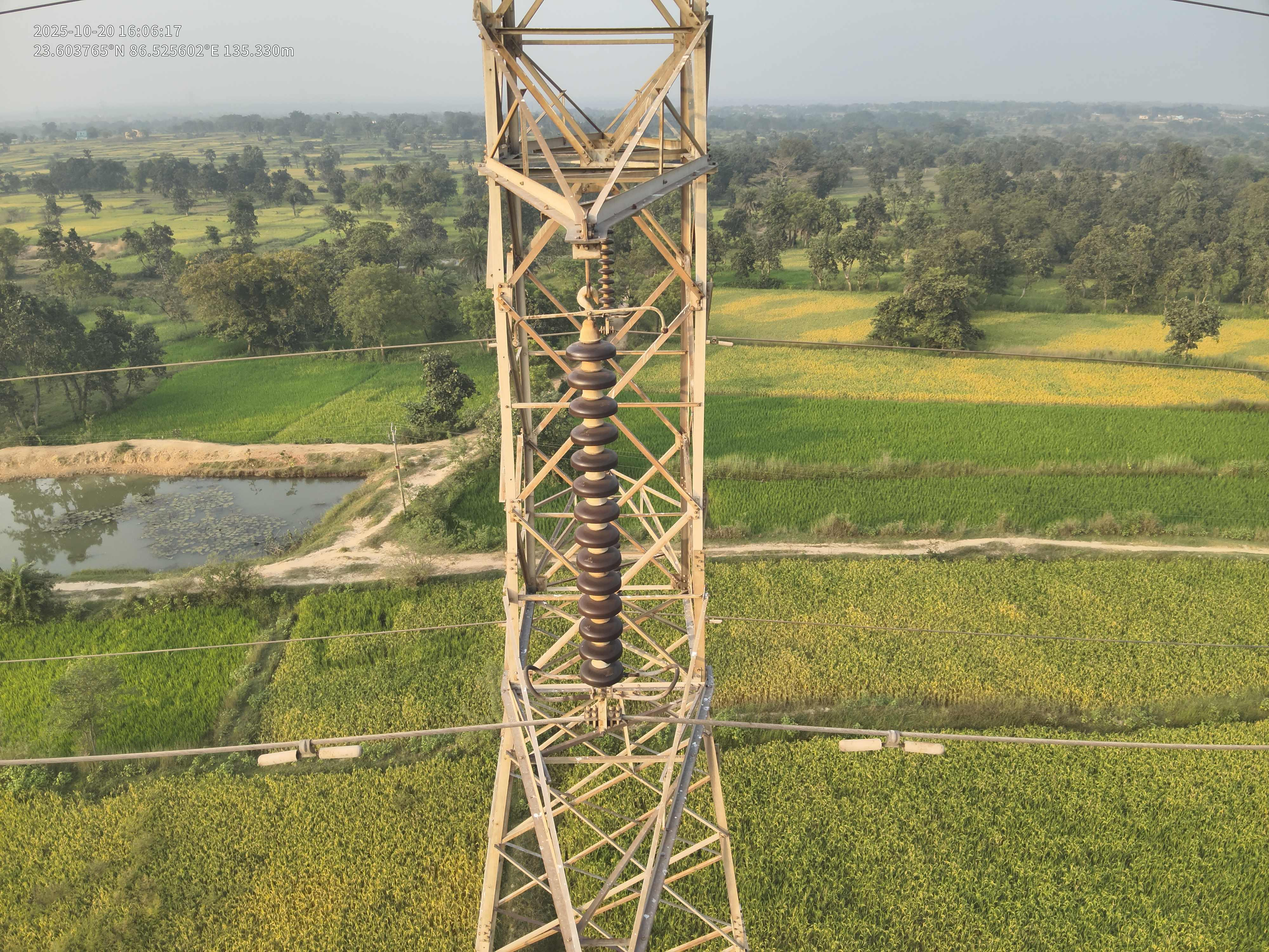broken_insulator: (578, 642, 622, 665)
